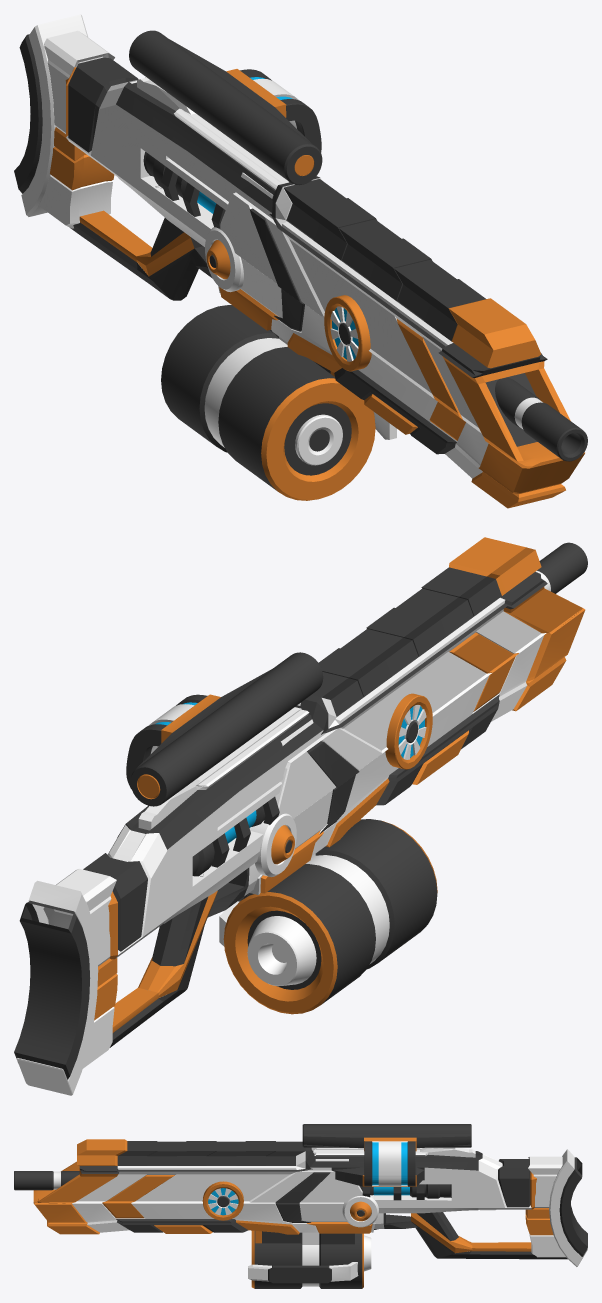
The model's file is RocketRifle.fbx.
The picture shows the model from 3 angles, top to bottom: view 1: azimuth 30°, elevation 25°; view 2: azimuth 150°, elevation 25°; view 3: azimuth 270°, elevation 25°; orthographic projection. The views are drawn at different scales.
Visible parts, largest first — view 1: Cube.005, Cube.002, Cube.004, Cylinder, Cube.000, Cylinder.001, Cube.003; view 2: Cube.005, Cube.002, Cube.004, Cylinder, Cube.000, Cube.003, Cylinder.001; view 3: Cube.005, Cube.002, Cube.004, Cylinder, Cube.000, Cube.003, Cylinder.001.
Boxes of the visible parts, x1=… form: Cube.005: x1=218, y1=172, x2=584, y2=508; Cube.002: x1=14, y1=14, x2=289, y2=292; Cube.004: x1=161, y1=305, x2=396, y2=500; Cylinder: x1=129, y1=30, x2=322, y2=185; Cube.000: x1=70, y1=186, x2=212, y2=300; Cylinder.001: x1=495, y1=377, x2=587, y2=461; Cube.003: x1=240, y1=69, x2=321, y2=152; Cube.005: x1=249, y1=537, x2=585, y2=894; Cube.002: x1=14, y1=703, x2=326, y2=1095; Cube.004: x1=219, y1=819, x2=437, y2=1014; Cylinder: x1=130, y1=652, x2=323, y2=806; Cube.000: x1=110, y1=863, x2=260, y2=1047; Cube.003: x1=126, y1=694, x2=207, y2=789; Cylinder.001: x1=535, y1=542, x2=587, y2=593; Cube.005: x1=33, y1=1139, x2=378, y2=1234; Cube.002: x1=307, y1=1147, x2=587, y2=1266; Cube.004: x1=248, y1=1230, x2=371, y2=1288; Cylinder: x1=302, y1=1124, x2=471, y2=1151; Cube.000: x1=373, y1=1212, x2=567, y2=1259; Cube.003: x1=364, y1=1141, x2=415, y2=1186; Cylinder.001: x1=14, y1=1171, x2=79, y2=1190.
Size of the model in its own units: 171 by 315 by 971.
